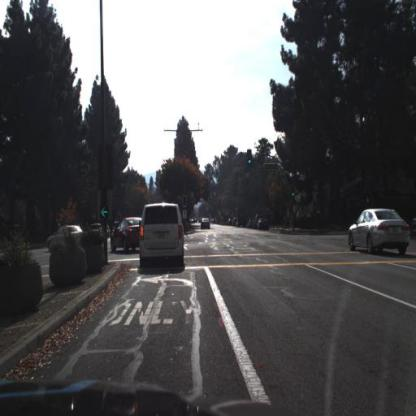car: (136, 200, 187, 274), (346, 201, 409, 256), (107, 214, 144, 250), (110, 215, 142, 251), (42, 223, 85, 248), (199, 213, 212, 234), (199, 215, 211, 233)
trafficLight-Green: (244, 150, 254, 172), (246, 149, 251, 165), (291, 185, 296, 199)
trafficLight-GreenLeft: (100, 196, 110, 221), (182, 194, 186, 212)
